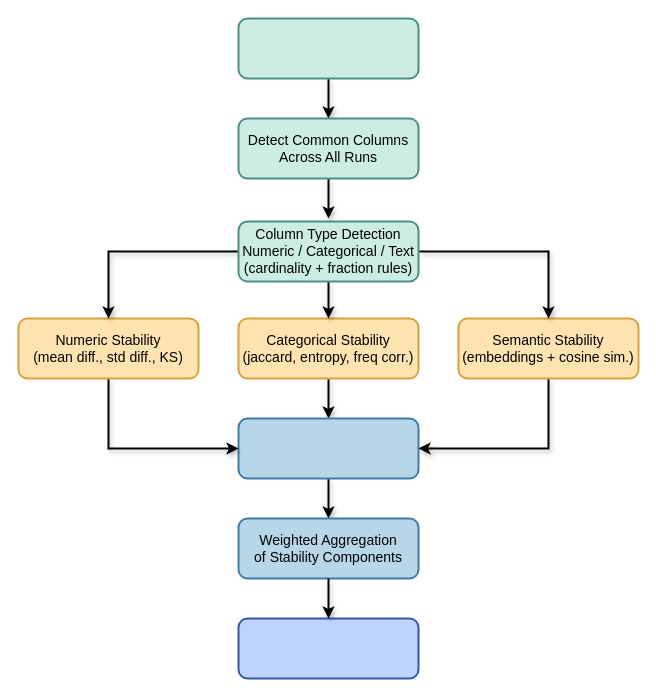
Some shapes in this 656 by 696 pixel diagram are drawn without their labels. The centre of each missing label's shape, as x and y in pixels:
"Final Stability Index (0–1)" goes at (x=328, y=648).
"Multiple Generated Dataset Runs" goes at (x=328, y=48).
"Type Alignment Penalty vs. Ground-Truth Schema" goes at (x=328, y=448).
